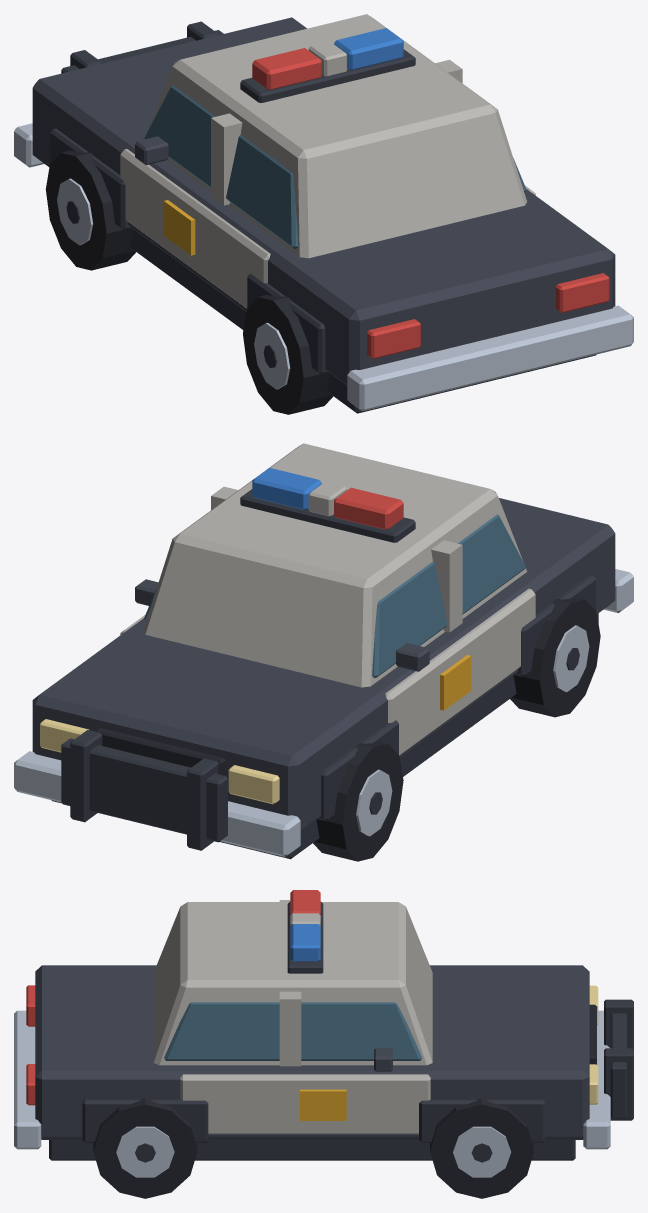
File: Stylized_Vehicle_Police_Sedan.fbx
The picture shows the model from 3 angles, top to bottom: view 1: azimuth 30°, elevation 25°; view 2: azimuth 150°, elevation 25°; view 3: azimuth 270°, elevation 25°; orthographic projection. The views are drawn at different scales.
Parts seen in each view (by area): view 1: Stylized_Vehicle_Police_Sedan; view 2: Stylized_Vehicle_Police_Sedan; view 3: Stylized_Vehicle_Police_Sedan.
Boxes of the visible parts, x1,y1,x2,y2 form: Stylized_Vehicle_Police_Sedan: (14,14,633,414); Stylized_Vehicle_Police_Sedan: (14,443,633,861); Stylized_Vehicle_Police_Sedan: (14,890,633,1198).
Size of the model in its own units: 2.19 by 1.77 by 4.53.
